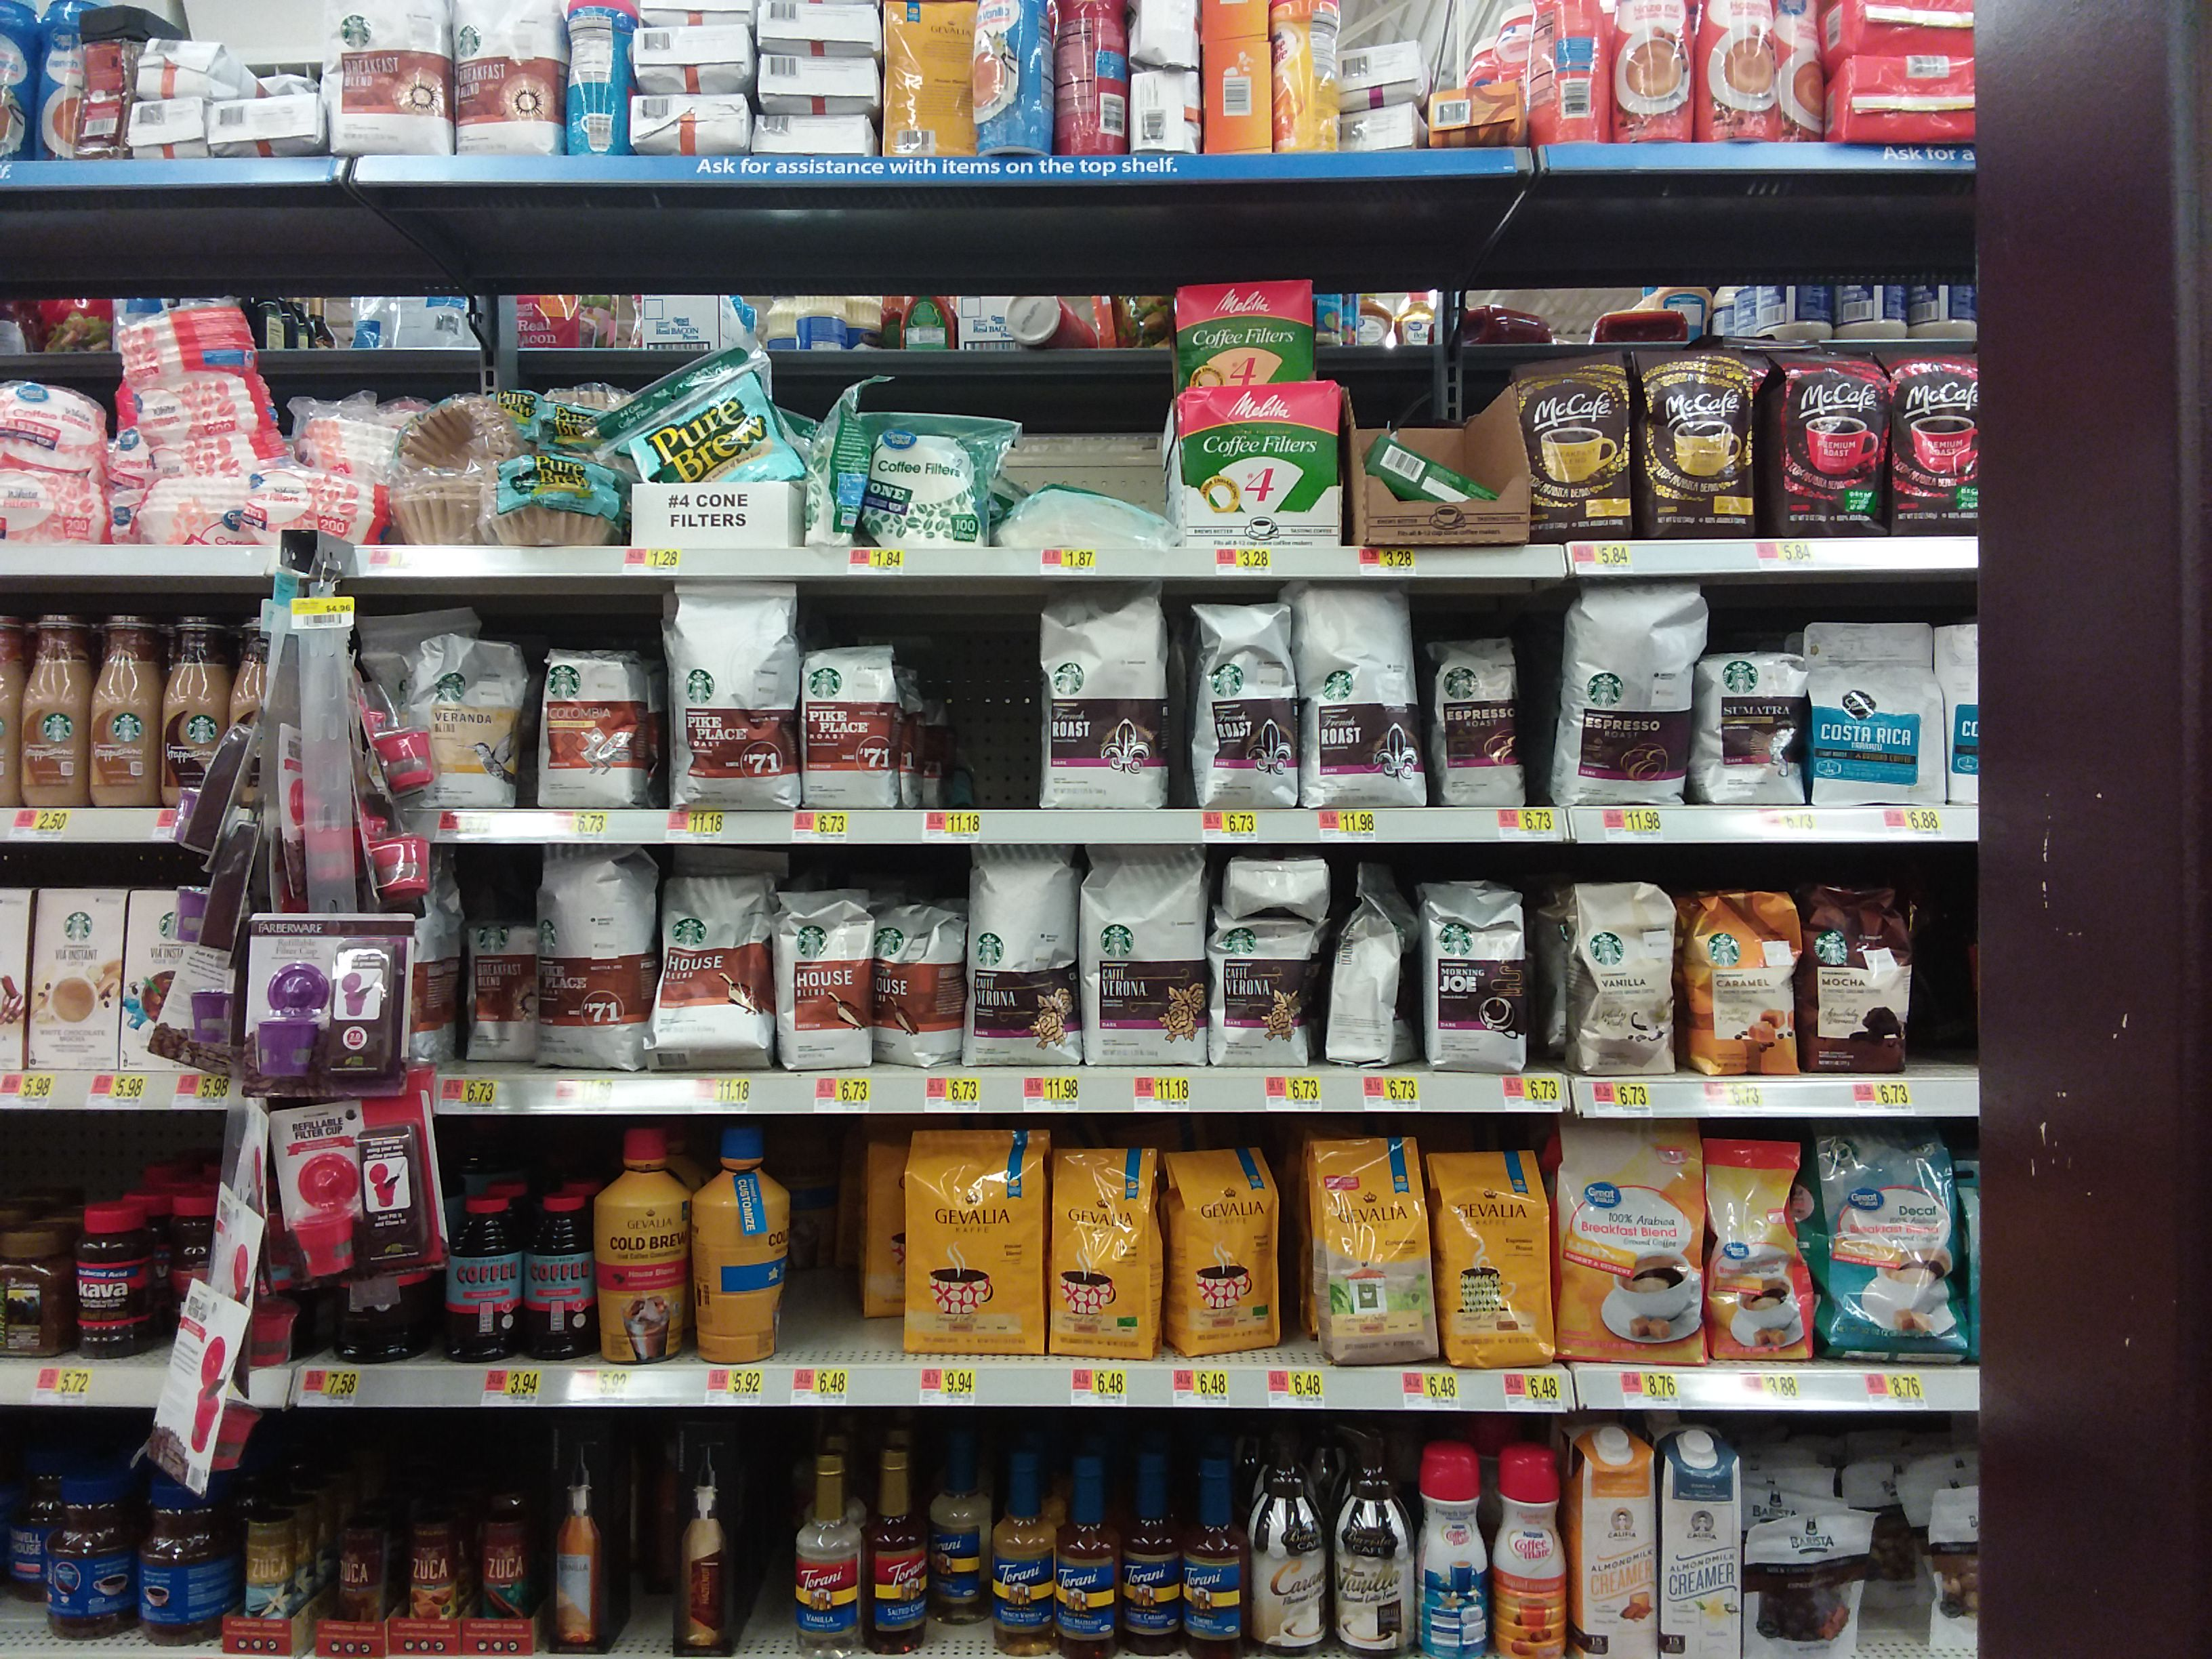Misplacement: (820, 1119, 904, 1364)
Out-of-stock: (974, 603, 1036, 809)
